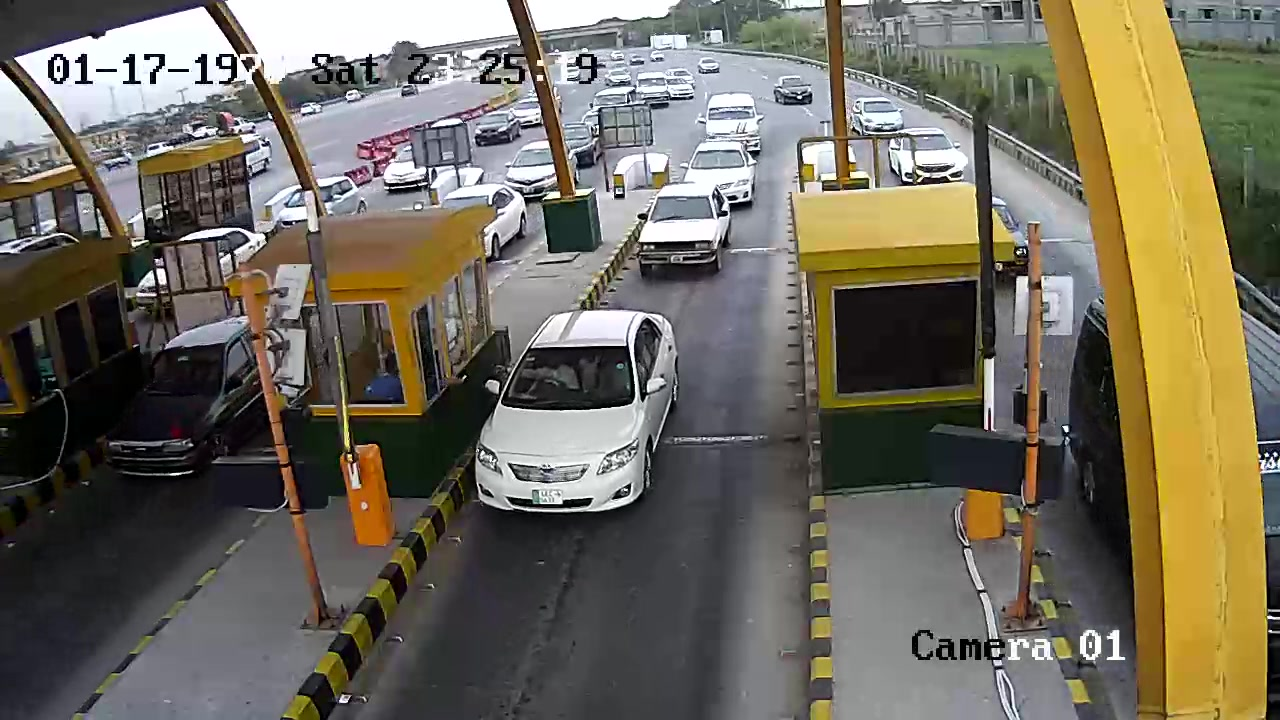F1: (465, 305, 693, 529)
